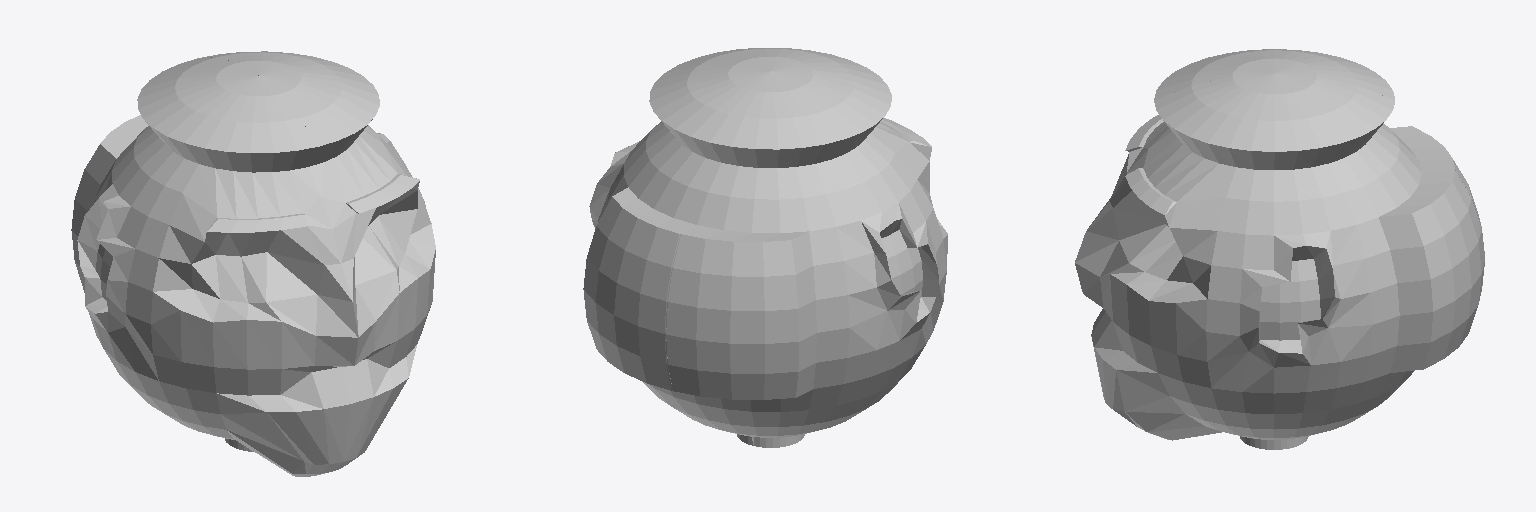
The model's file is PlanetHead.obj.
3 views of the same model, side by side, from view 1: azimuth 30°, elevation 25°; view 2: azimuth 150°, elevation 25°; view 3: azimuth 270°, elevation 25° (orthographic).
Visible parts, largest first — view 1: Sphere; view 2: Sphere; view 3: Sphere.
Boxes of the visible parts, box(x1,y1,x2,y2) form: Sphere: box(71, 51, 435, 476); Sphere: box(583, 48, 947, 447); Sphere: box(1075, 49, 1484, 449).
Bounding box in the file's own units: 2.11 × 2.27 × 2.31.